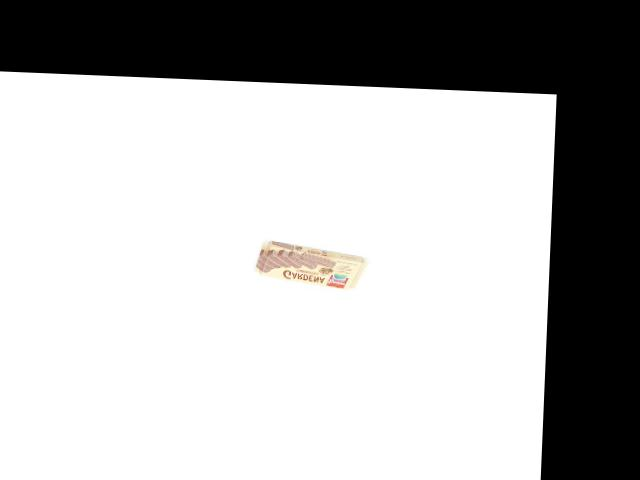chocolate: (248, 244, 372, 292)
